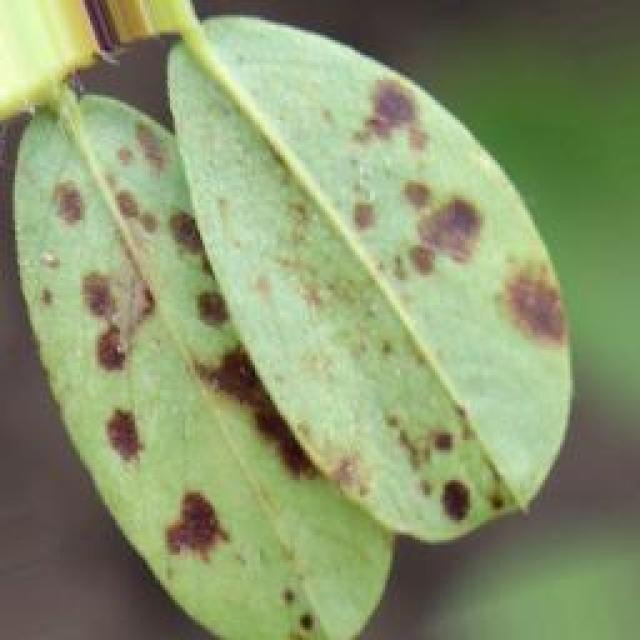Whitefly: (6, 0, 571, 609)
